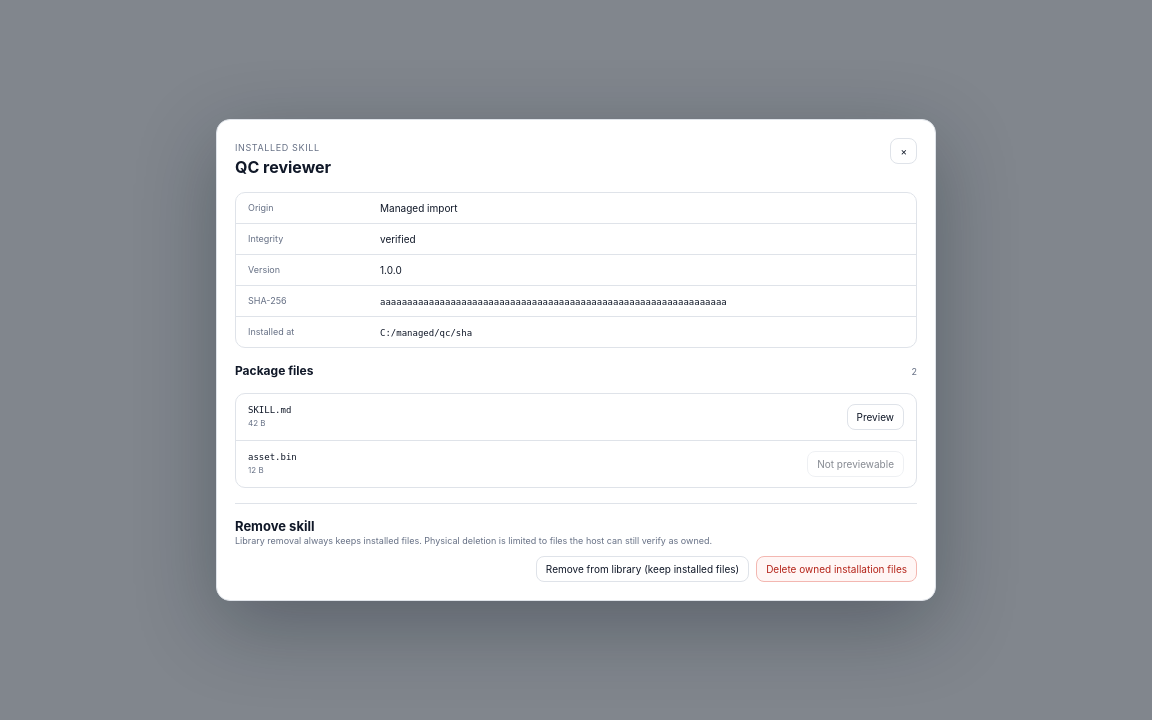
Scenario: SkillDetails › keeps partial owned-file cleanup visible and refreshes both catalogs
Expected: the heading "QC reviewer" is shown, [235,157,331,177]
Click the button "Delete owned installation files": x=837, y=569 [756,556,917,582]
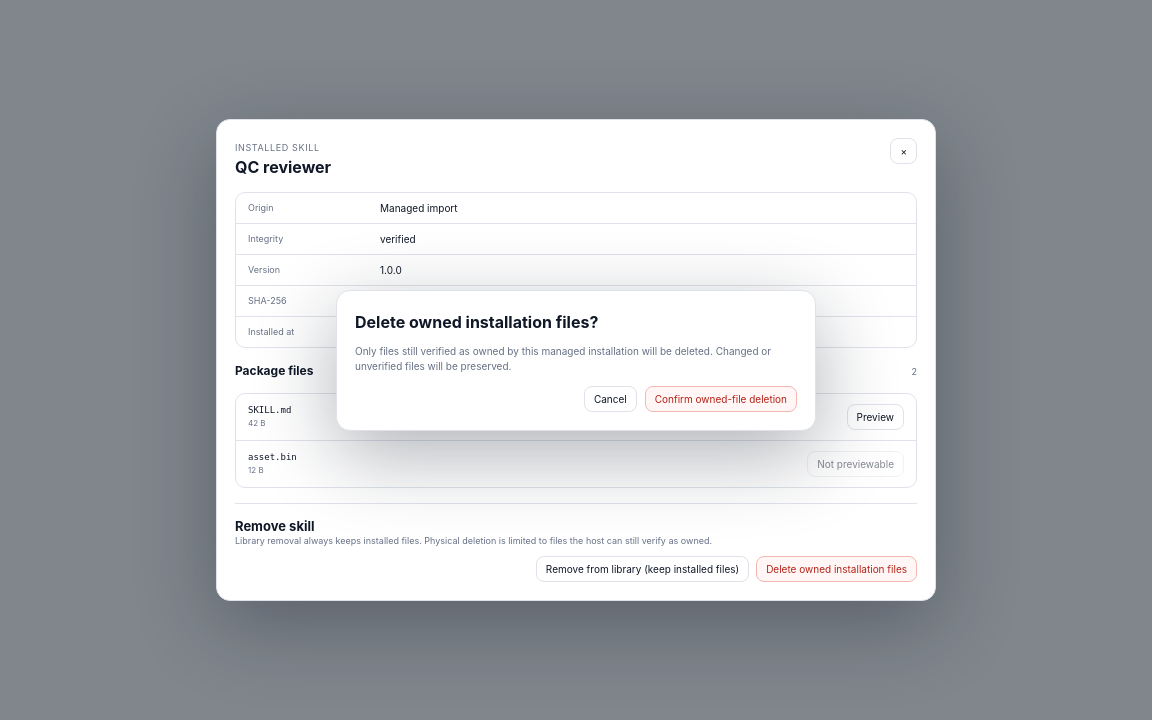
Result: the dialog named "Confirm skill removal" shows "Changed or unverified files will be preserved" at [355,344,771,372]
Click the button "Confirm owned-file deletion": x=721, y=398 [645,386,797,412]
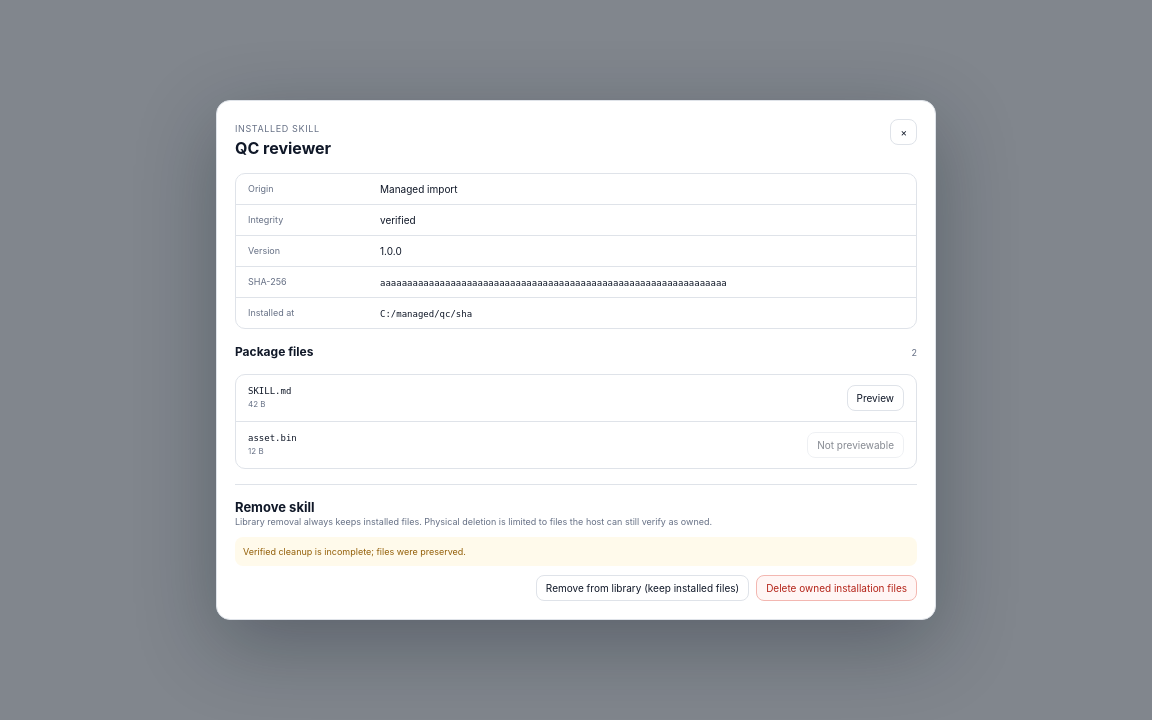
Expected: the dialog named "Skill details" is shown, [216,100,936,620]
Result: the message named "Skill removal result" shows "files were preserved" at [243,546,466,557]
